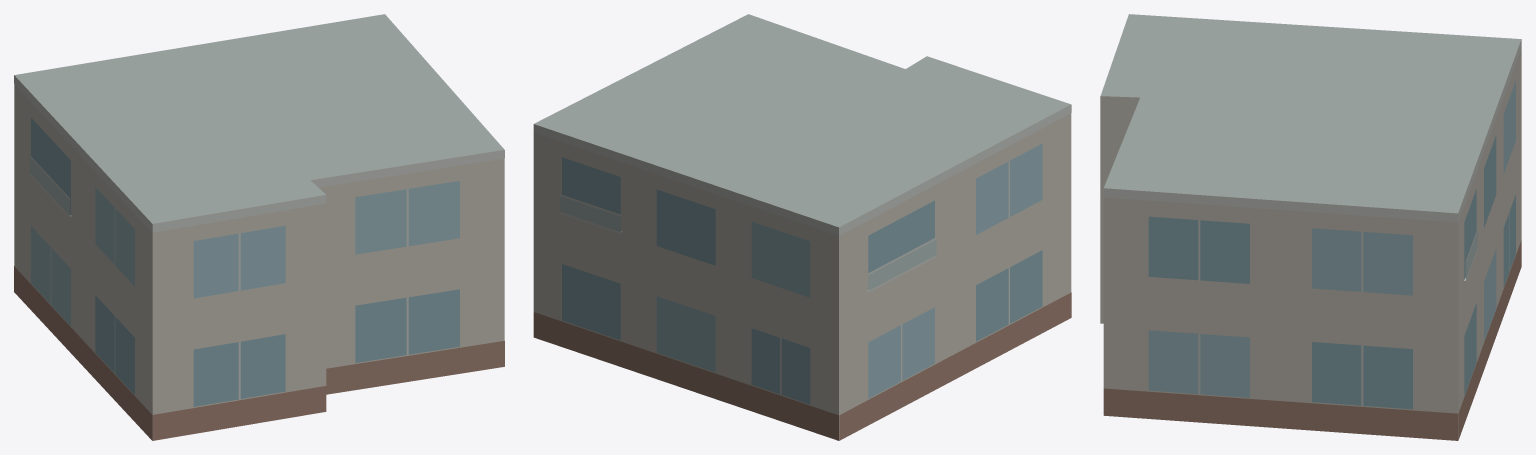
The model's file is survey-upis-32648011.glb.
The picture shows the model from 3 angles, left to right: view 1: azimuth 30°, elevation 25°; view 2: azimuth 150°, elevation 25°; view 3: azimuth 270°, elevation 25°; orthographic projection. The views are drawn at different scales.
Visible parts, largest first — view 1: survey-upis-32648011.tmp; view 2: survey-upis-32648011.tmp; view 3: survey-upis-32648011.tmp.
Part boxes in pixels (<box>): survey-upis-32648011.tmp: <box>14,14,504,440</box>; survey-upis-32648011.tmp: <box>533,14,1071,440</box>; survey-upis-32648011.tmp: <box>1100,14,1521,440</box>.
Bounding box in the file's own units: 11.48 × 6.1 × 10.24.
